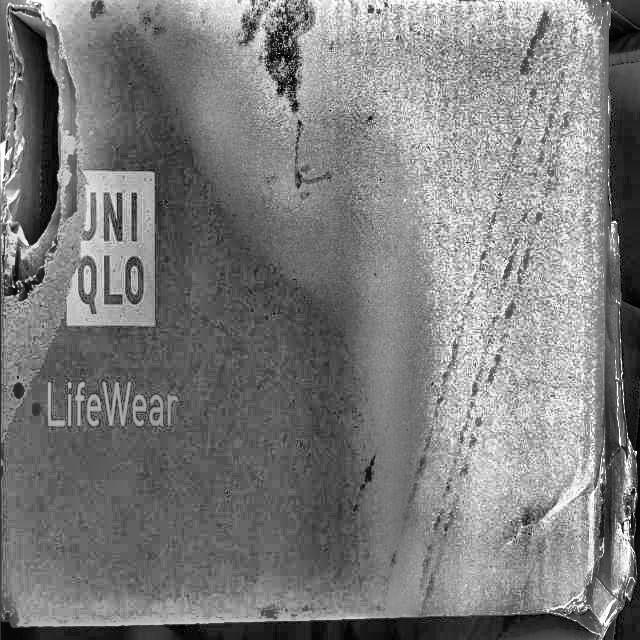box: (0, 0, 639, 639)
hole: (6, 6, 79, 284)
